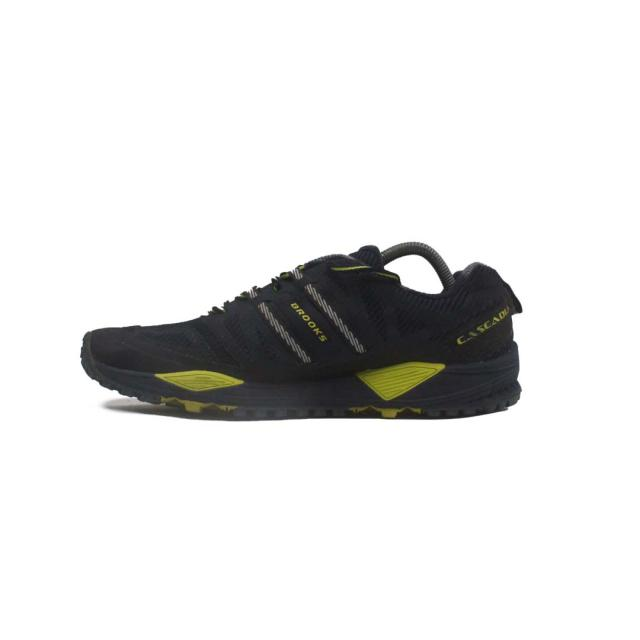heel: (470, 263, 527, 367)
midsole: (81, 333, 521, 417)
uppersole: (90, 247, 487, 382)
